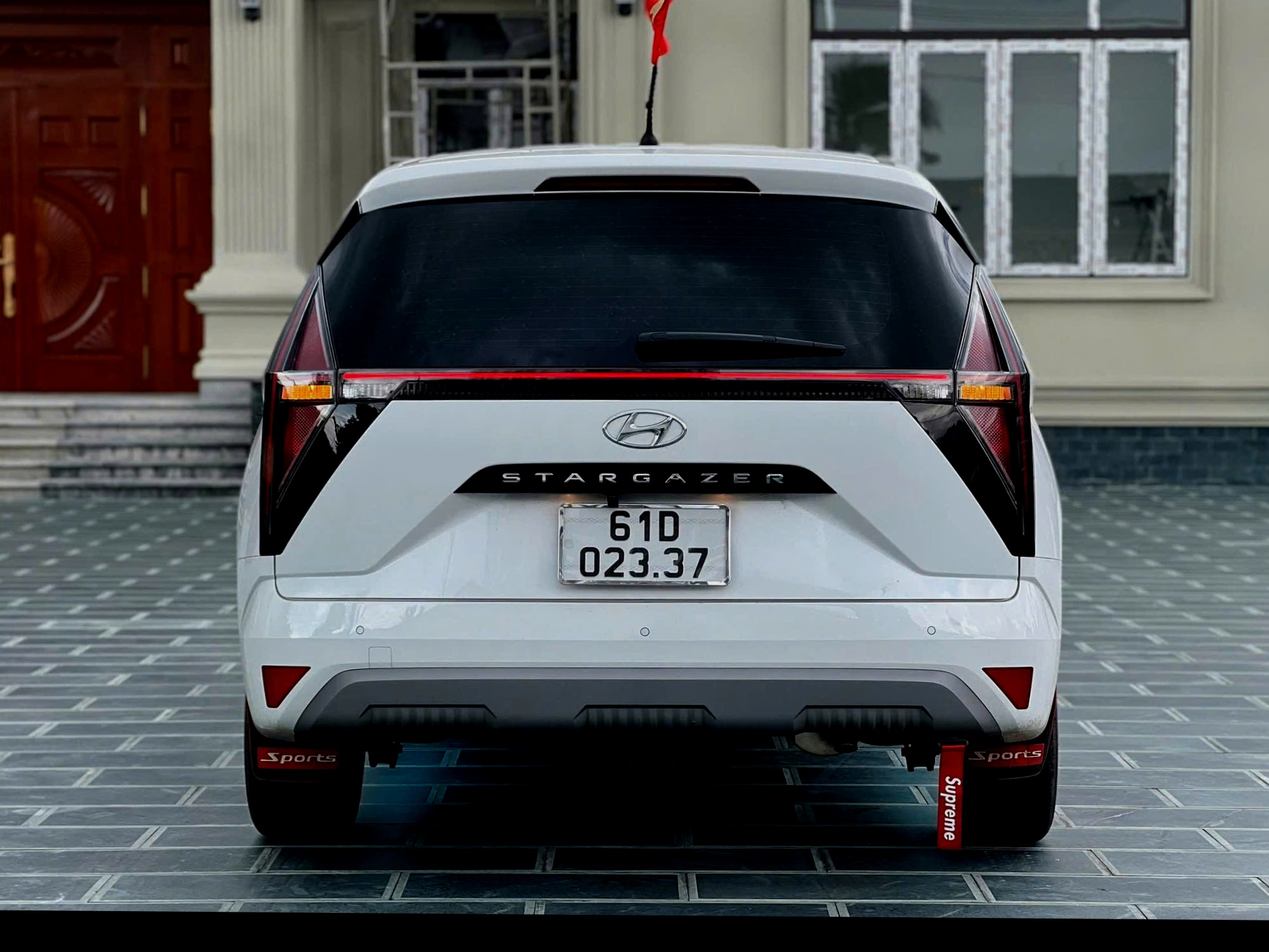Bien-so: (547, 503, 745, 618)
